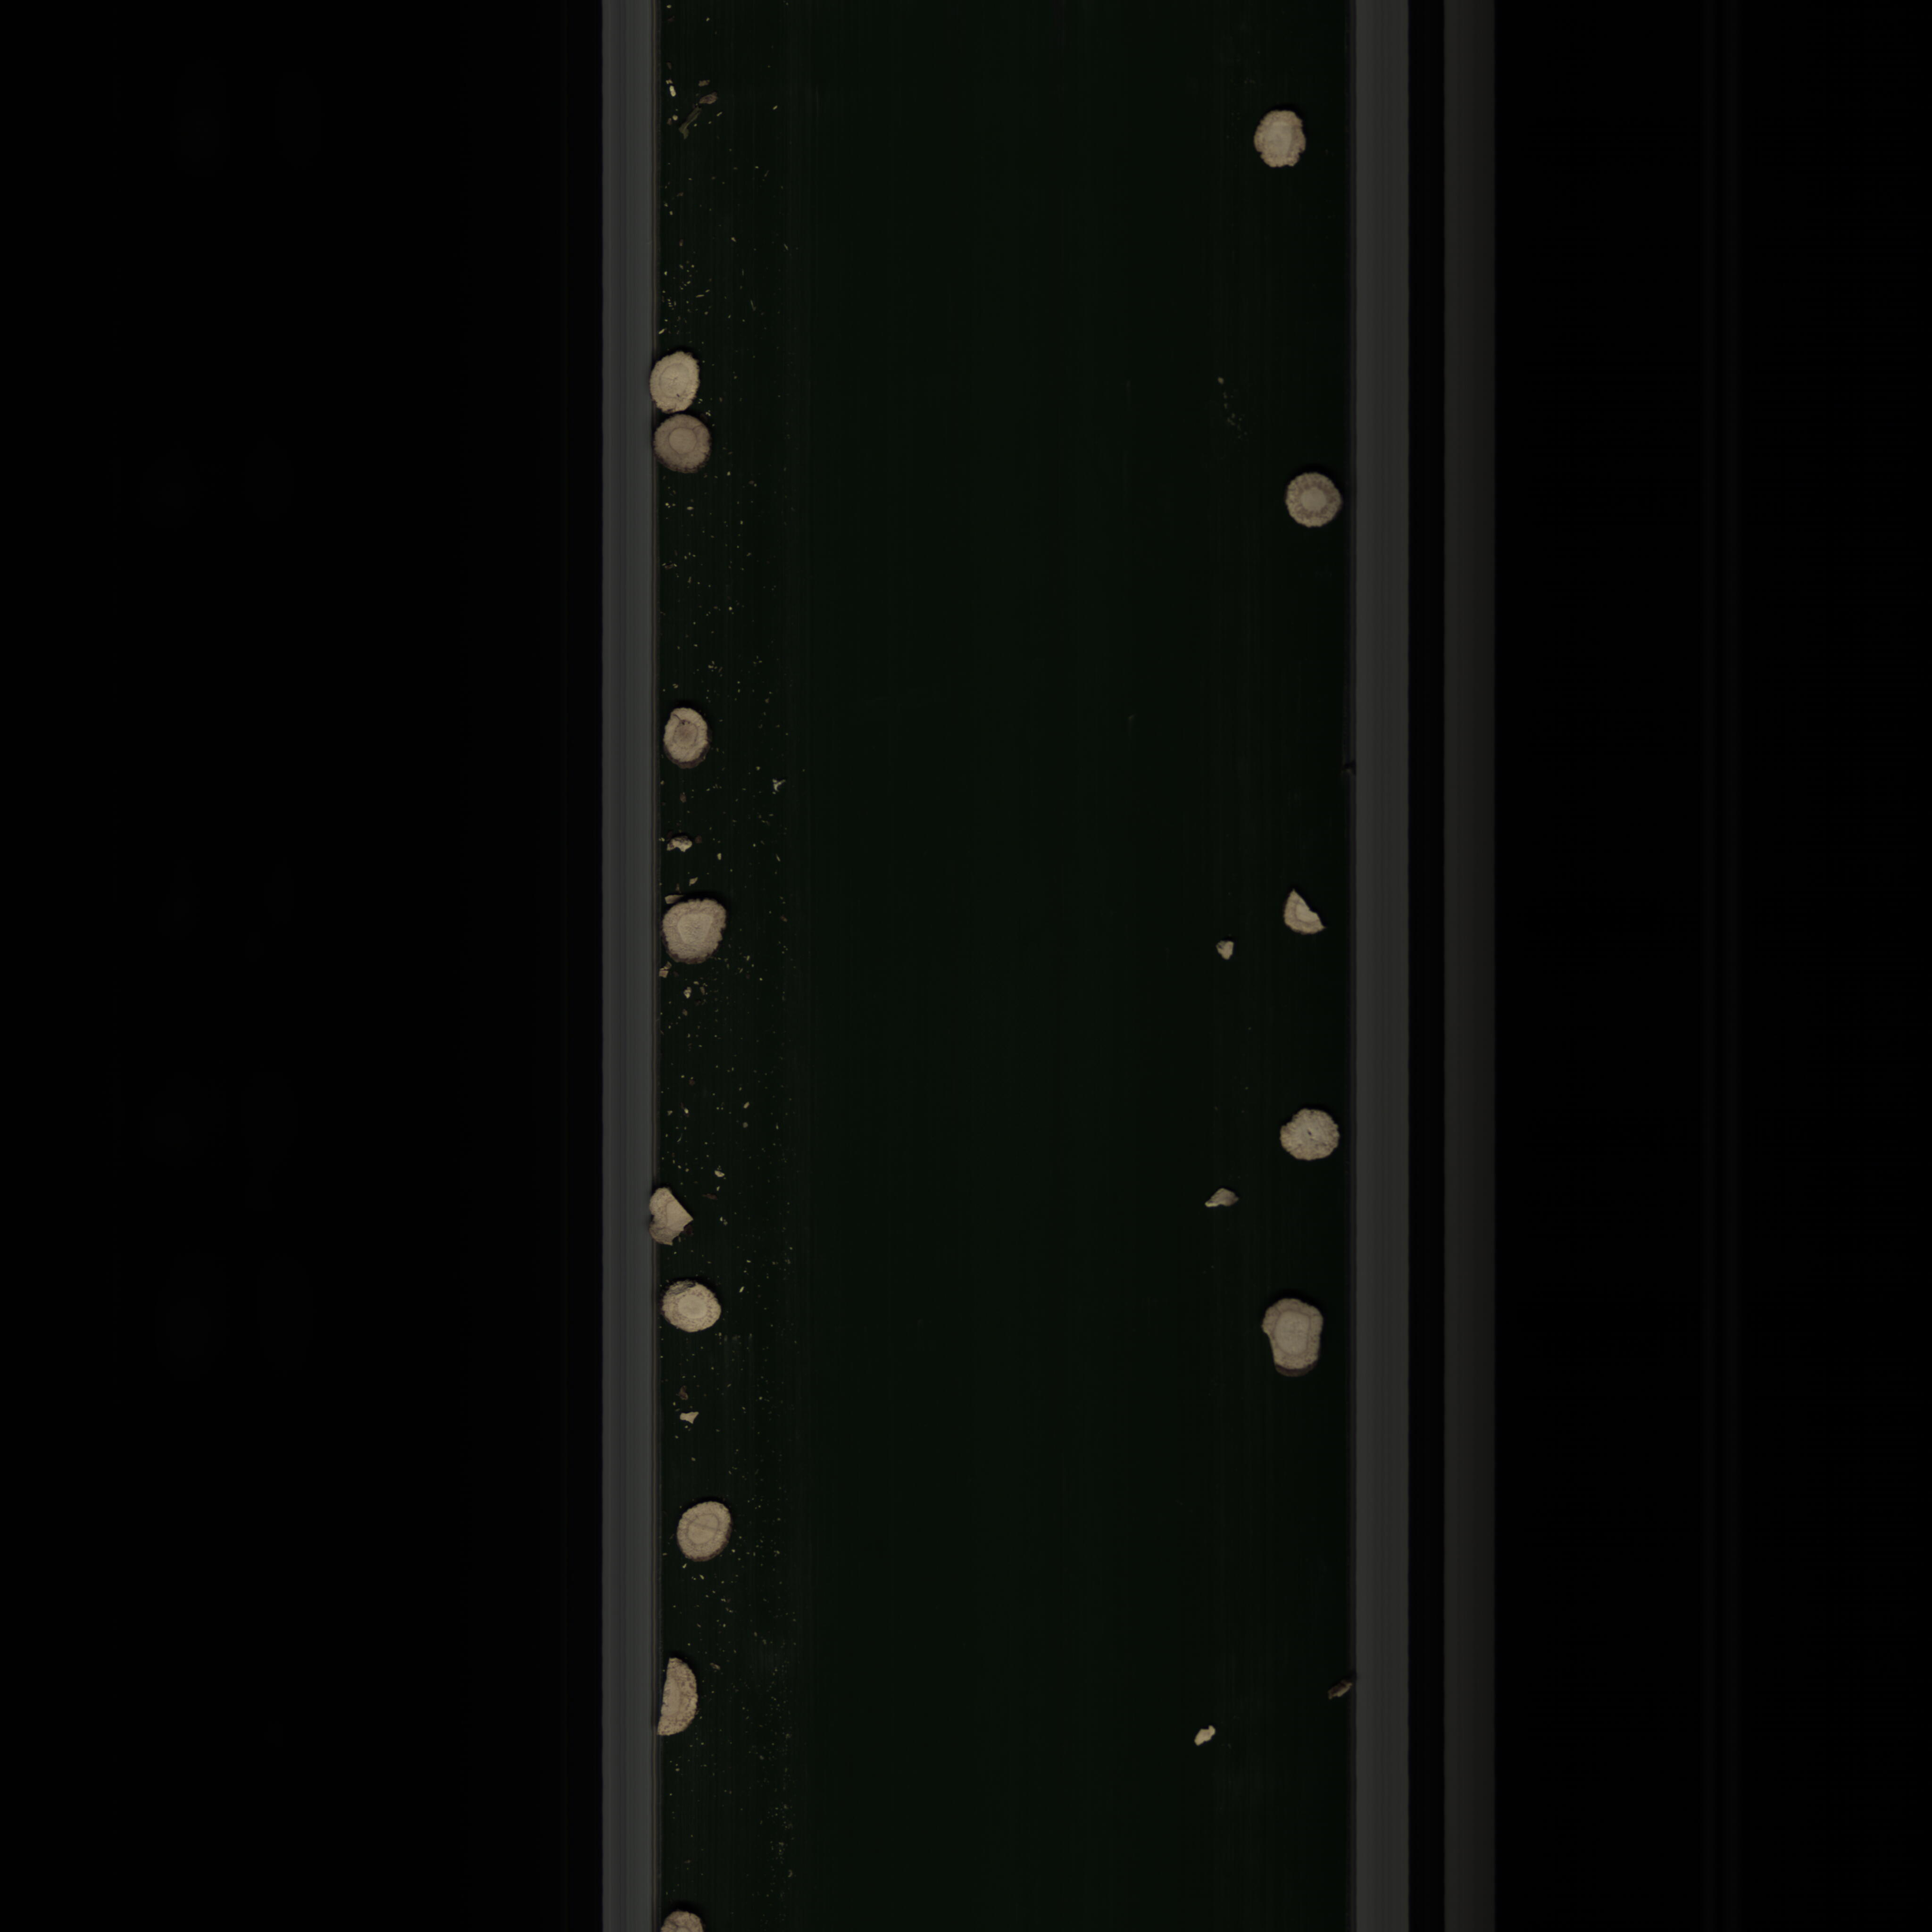debris: (653, 1652, 702, 1743), (637, 1185, 702, 1253), (1276, 883, 1330, 945), (1198, 1180, 1253, 1217)
distortion: (1253, 1292, 1329, 1380)
moldy: (655, 416, 724, 481), (1283, 467, 1345, 533)
